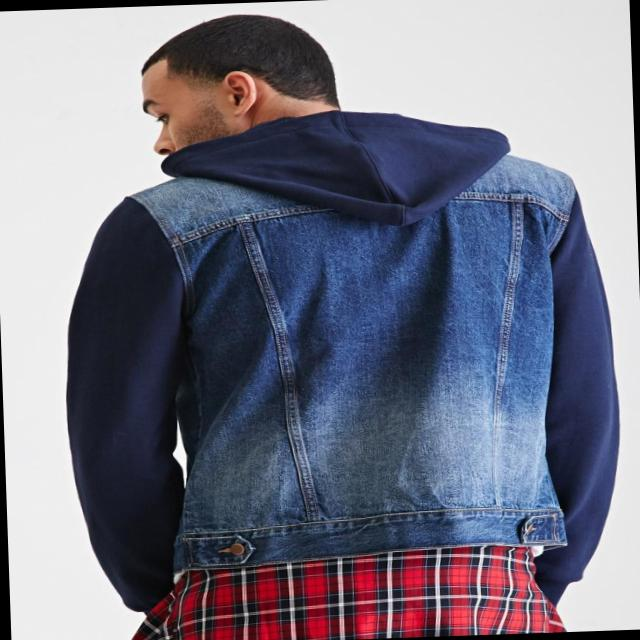Jacket: (51, 121, 629, 587)
